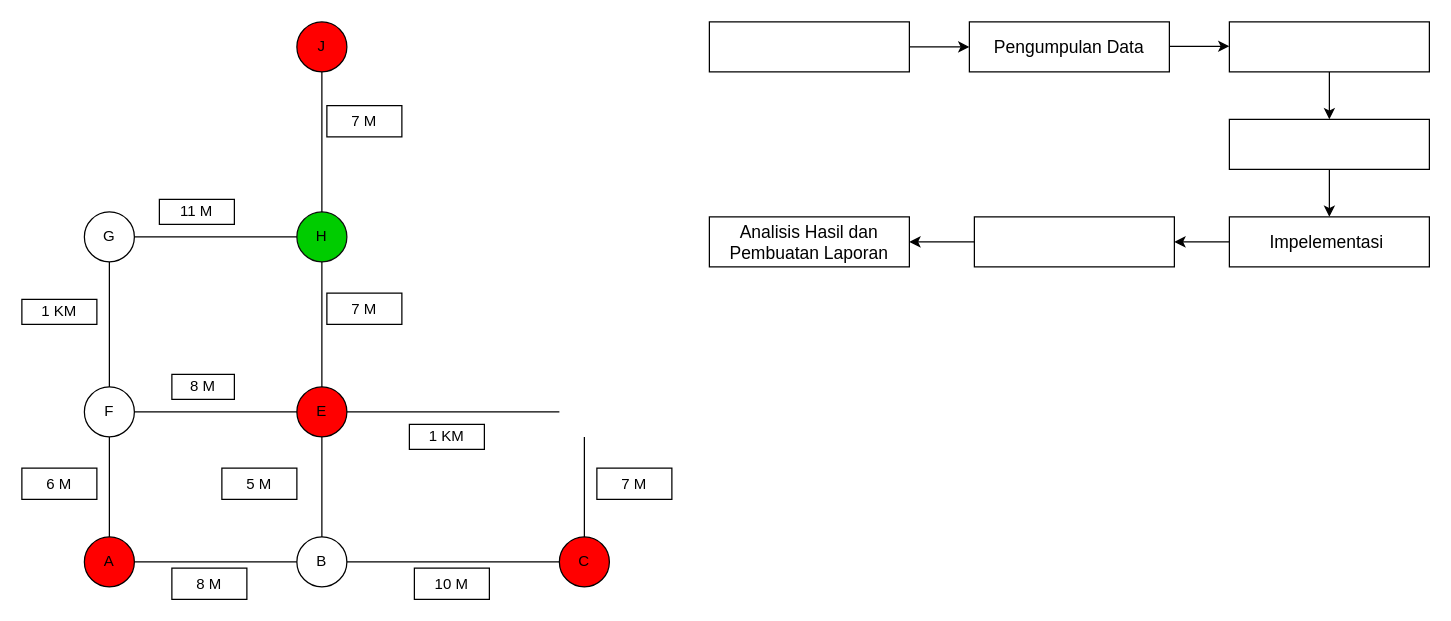
Some shapes in this 1451 by 621 pixel diagram are drawn without their labels. The centre of each missing label's shape, as x and y in pixels:
Identifikasi Masalah dan Studi Literatur: the point at 808,46
Pemodelan Jaringan Jalan/Rute: the point at 1328,46
Pengujian: the point at 1073,241
Rancangan Program: the point at 1328,143
